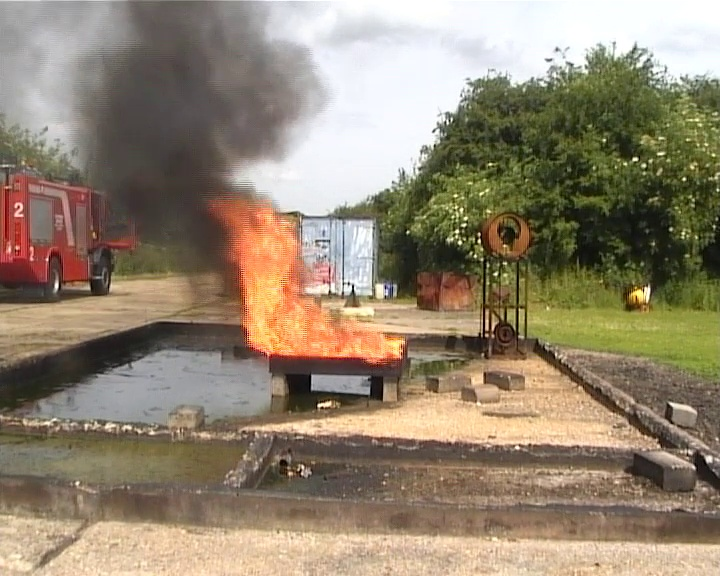fire: (237, 207, 402, 359)
